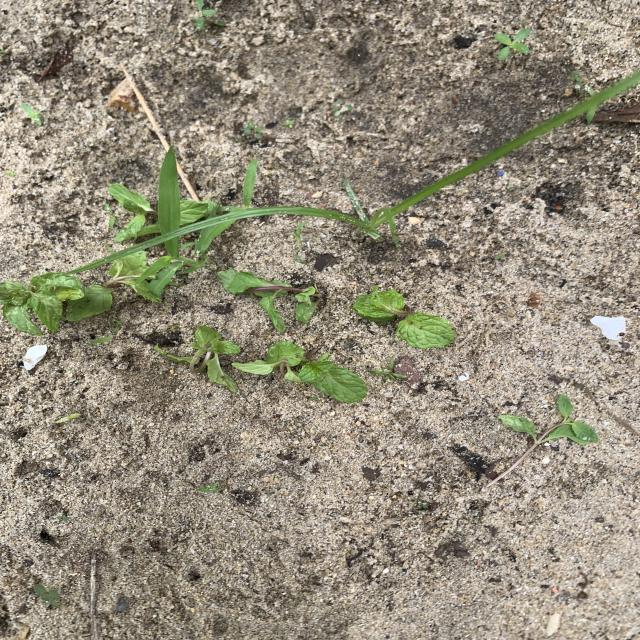crop: (483, 395, 598, 489), (232, 341, 367, 403), (65, 251, 163, 322), (352, 287, 455, 349), (218, 270, 319, 333), (154, 326, 240, 393), (0, 273, 85, 335), (109, 183, 161, 242), (180, 200, 218, 226)
weed: (65, 73, 639, 274), (136, 147, 217, 300), (494, 28, 531, 61)
